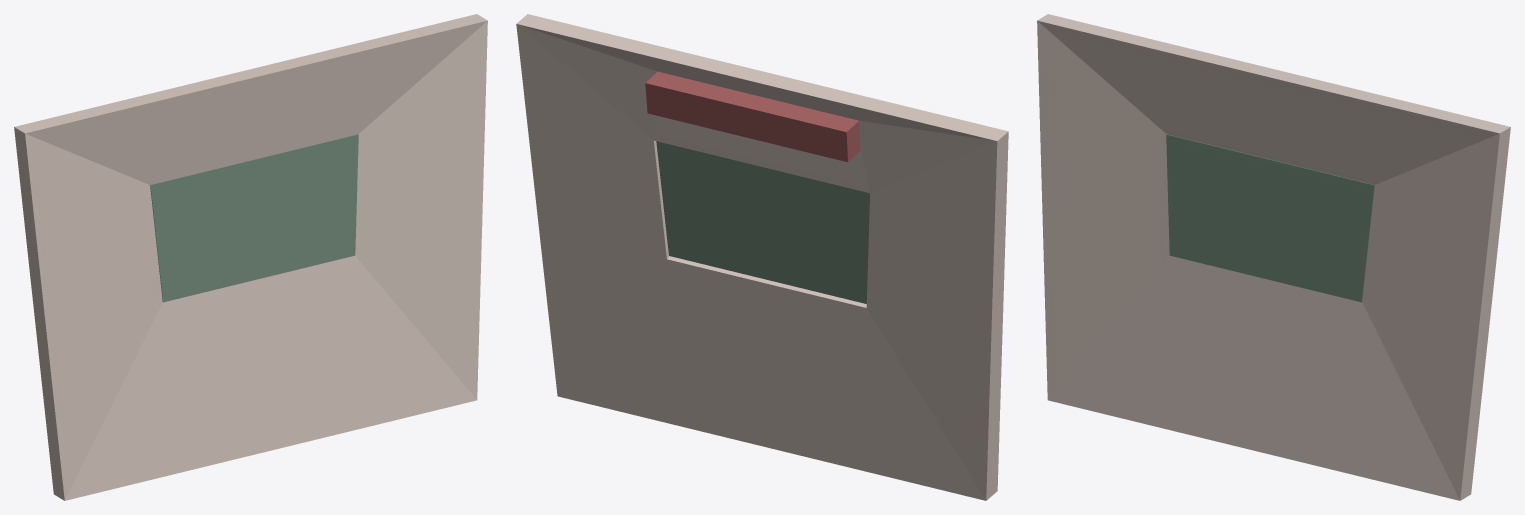
The model's file is EstufaRockoPuerta.obj.
3 renders of one model, left to right at view 1: azimuth 30°, elevation 25°; view 2: azimuth 150°, elevation 25°; view 3: azimuth 330°, elevation 25°, orthographic. The views are drawn at different scales.
Parts seen in each view (by area): view 1: EstufaRockoPuerta:Mesh; view 2: EstufaRockoPuerta:Mesh; view 3: EstufaRockoPuerta:Mesh.
Part boxes in pixels (box(x1,y1,x2,y2)): EstufaRockoPuerta:Mesh: box(14, 14, 487, 500); EstufaRockoPuerta:Mesh: box(516, 14, 1008, 500); EstufaRockoPuerta:Mesh: box(1037, 14, 1510, 500).
Bounding box in the file's own units: 1.45 × 1.09 × 0.1946.
1 material, 1 textured.
